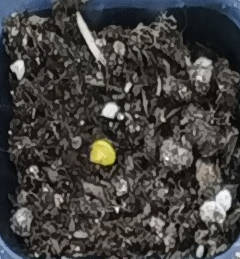pepper seed: (30, 57, 147, 223)
